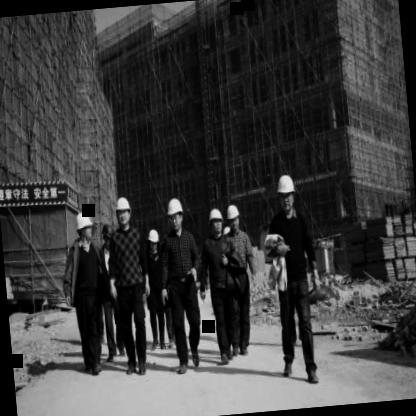helmet: (271, 170, 300, 218), (164, 194, 186, 236), (73, 208, 97, 245), (113, 192, 136, 230), (206, 203, 226, 239), (224, 202, 243, 235), (100, 218, 117, 251), (144, 226, 162, 254)
